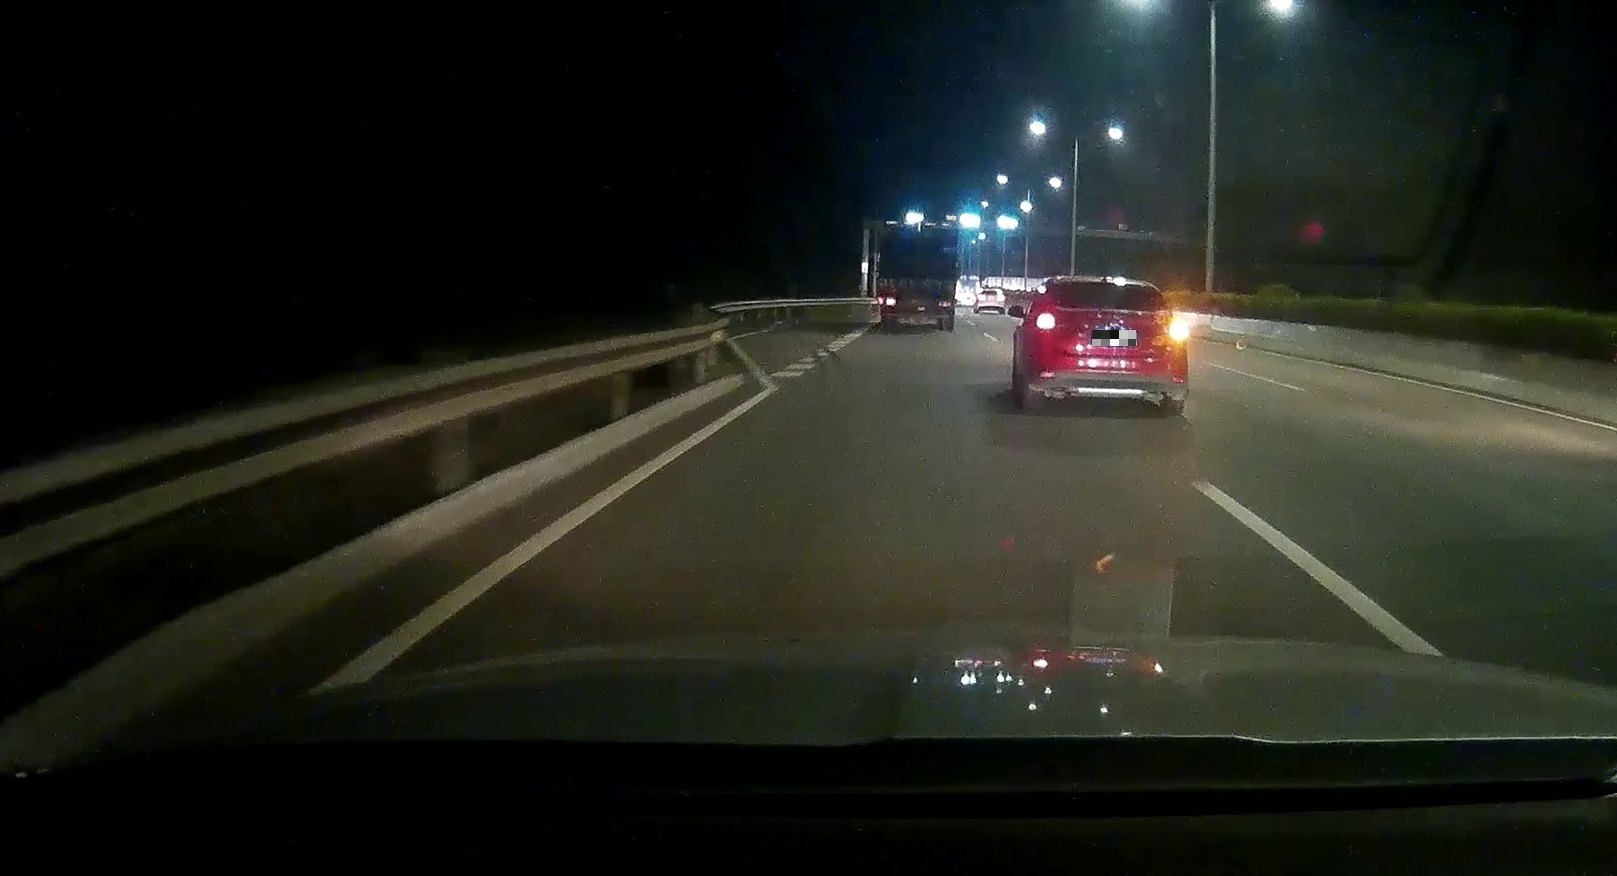L_light: (1037, 313, 1054, 329), (877, 298, 896, 304), (978, 295, 985, 300)
R_light: (1168, 321, 1186, 338), (938, 301, 953, 307), (997, 296, 1004, 300)
T_light: (1097, 283, 1118, 290), (912, 282, 926, 285), (989, 291, 995, 293)
night-no: (876, 225, 958, 331), (977, 289, 1005, 314)
night-right: (1034, 277, 1188, 411)
plate_1: (1092, 330, 1136, 346)
